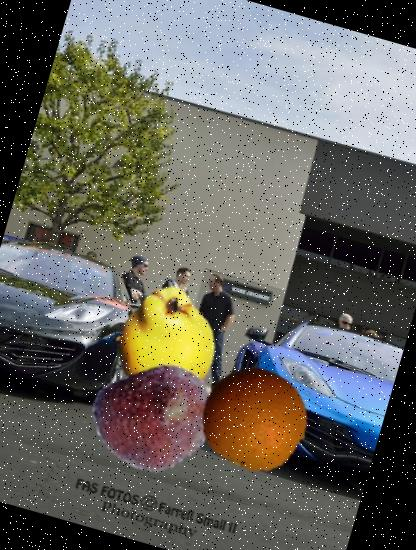Orange: (189, 353, 320, 484)
Quince: (97, 272, 239, 414)
Salak: (80, 344, 230, 494)
